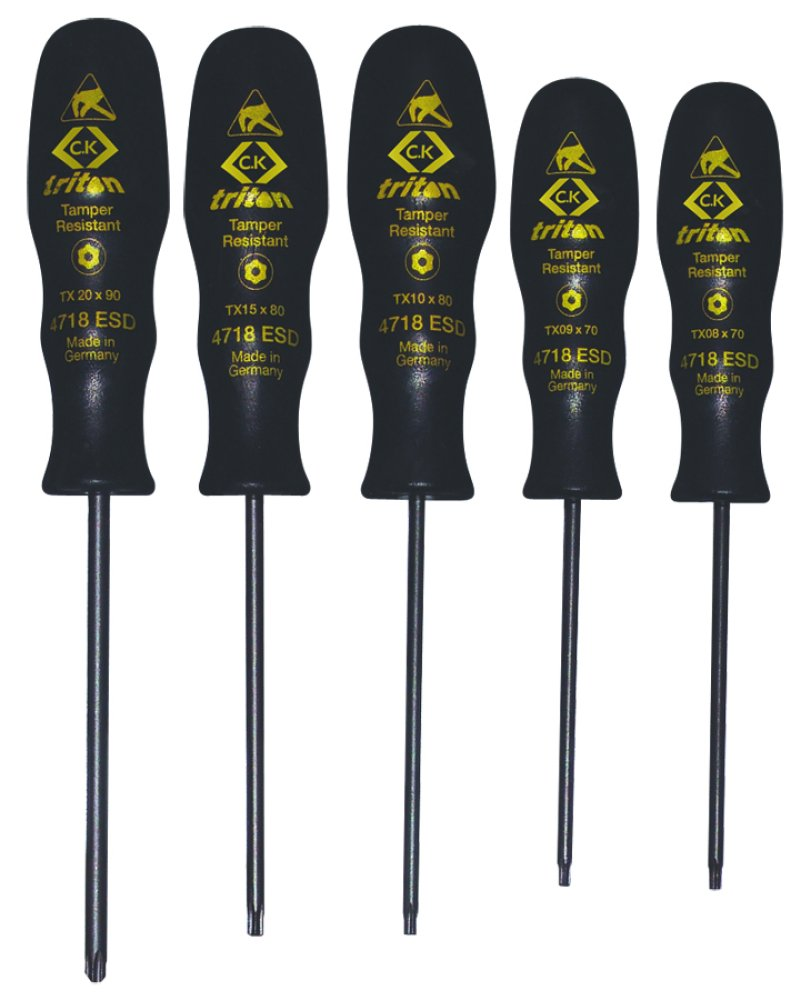screwdriver: (343, 24, 500, 938), (27, 14, 172, 983), (181, 27, 334, 938), (655, 78, 785, 892), (509, 76, 639, 887)
